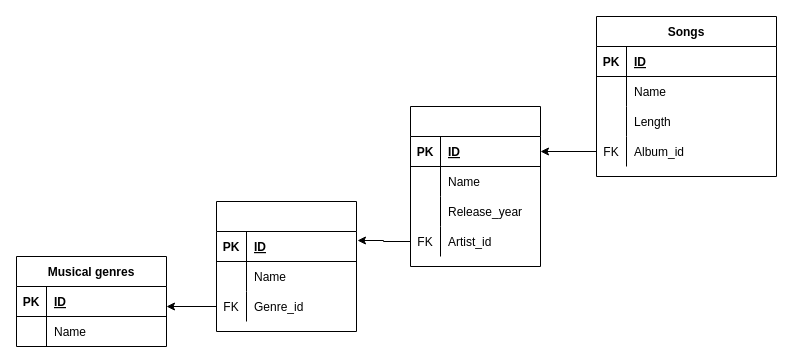
Some shapes in this 793 by 363 pixel diagram are drawn without their labels. Here are the shapes that lost their labels. From the top down, the box of each, then its label:
(410, 106, 540, 266): Albums
(216, 200, 356, 332): Music artists
